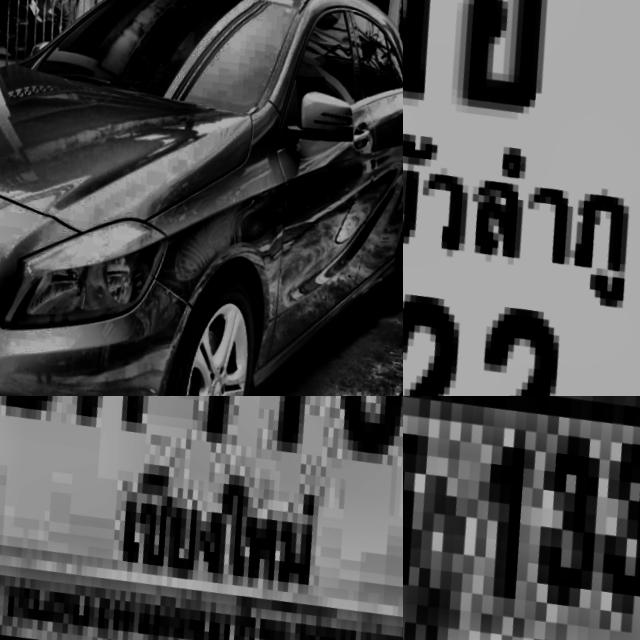license-plate: (0, 396, 403, 640), (403, 0, 640, 396), (403, 396, 640, 640)
